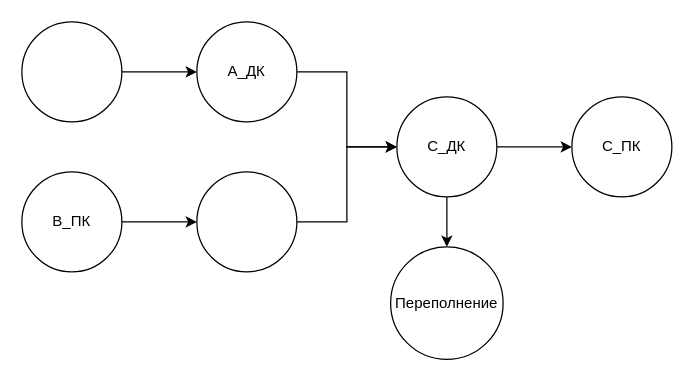
This 694x381 diagram has some shape labels left out. The centre of each missing label's shape, as x and y in pixels:
"A_ОК" belongs at point 71,71.
"B_ДК" belongs at point 246,221.
